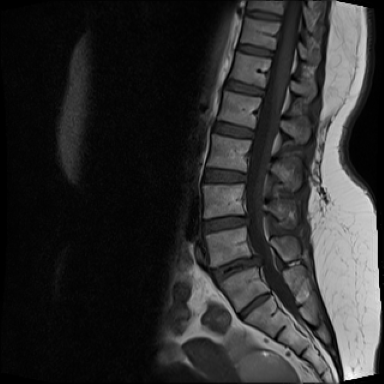Lumbar Disc Bulge (LDB): (206, 248, 267, 289)
Normal IVD: (197, 210, 250, 239), (206, 117, 258, 141), (233, 37, 278, 62), (198, 165, 248, 187), (223, 76, 264, 101), (240, 11, 286, 23)
Spinal Stenosis (SS): (247, 247, 266, 274)
